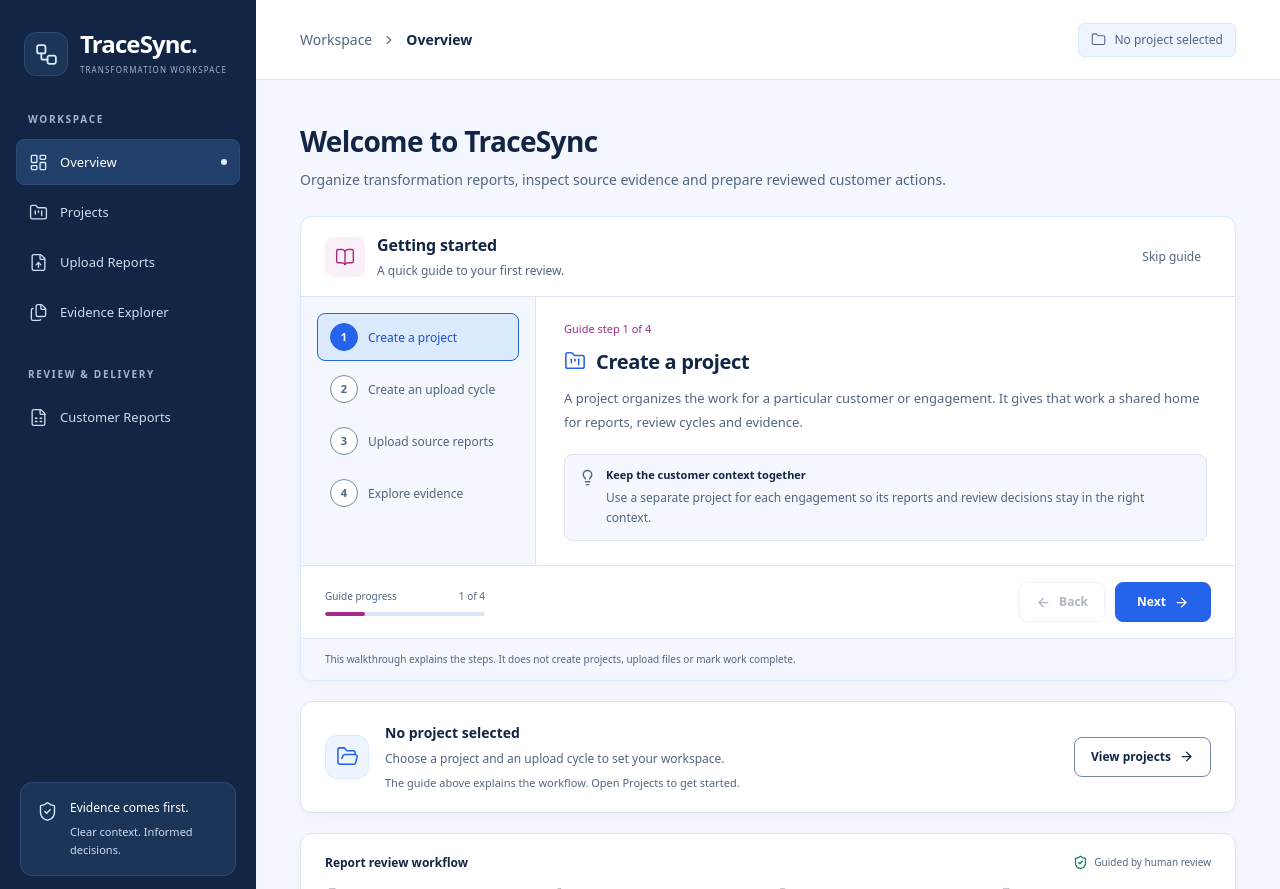
Scenario: TraceSync application shell › navigates to Customer Reports with one active link
Click the link "Customer Reports".
click(100, 417)  # box [29,408,171,426]
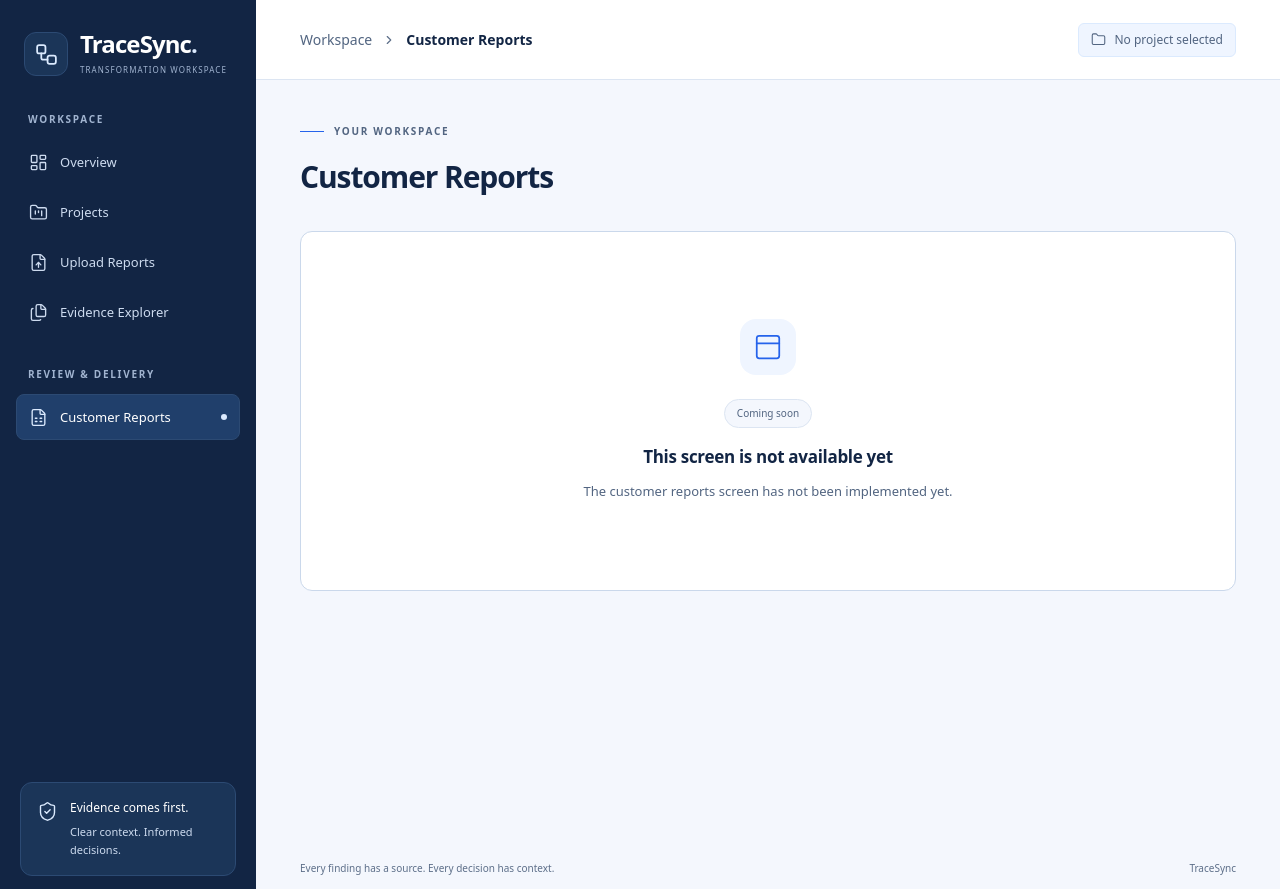
Expected: the heading "Customer Reports" is shown, [300,156,553,197]
Expected: the heading "This screen is not available yet" is shown, [643,444,893,470]
